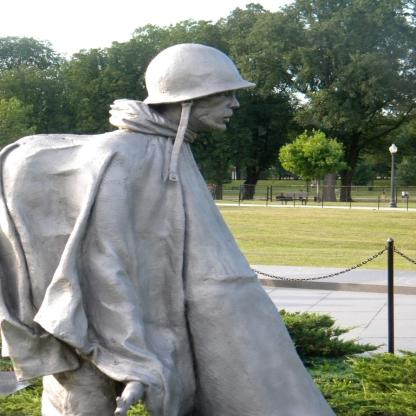Helmet: (110, 36, 249, 144)
